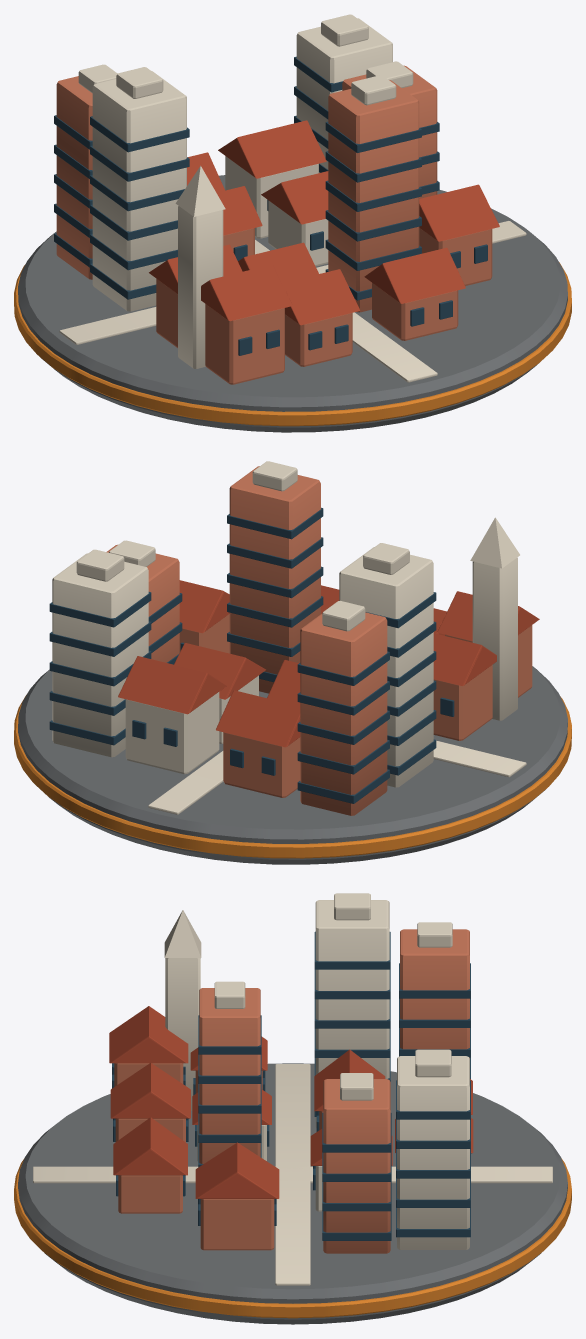
The model's file is cuenca_ciudad.src.glb.
3 views of the same model, one above another, from view 1: azimuth 30°, elevation 25°; view 2: azimuth 150°, elevation 25°; view 3: azimuth 270°, elevation 25° (orthographic).
Visible parts, largest first — view 1: geo_detail, geo_base; view 2: geo_detail, geo_base; view 3: geo_detail, geo_base.
Boxes of the visible parts, x1,y1,x2,y2 form: geo_detail: [54, 14, 499, 384]; geo_base: [14, 175, 571, 432]; geo_detail: [49, 461, 539, 815]; geo_base: [14, 666, 571, 864]; geo_detail: [109, 893, 473, 1253]; geo_base: [14, 1063, 571, 1324].
Bounding box in the file's own units: 0.1116 × 0.0557 × 0.1116.
